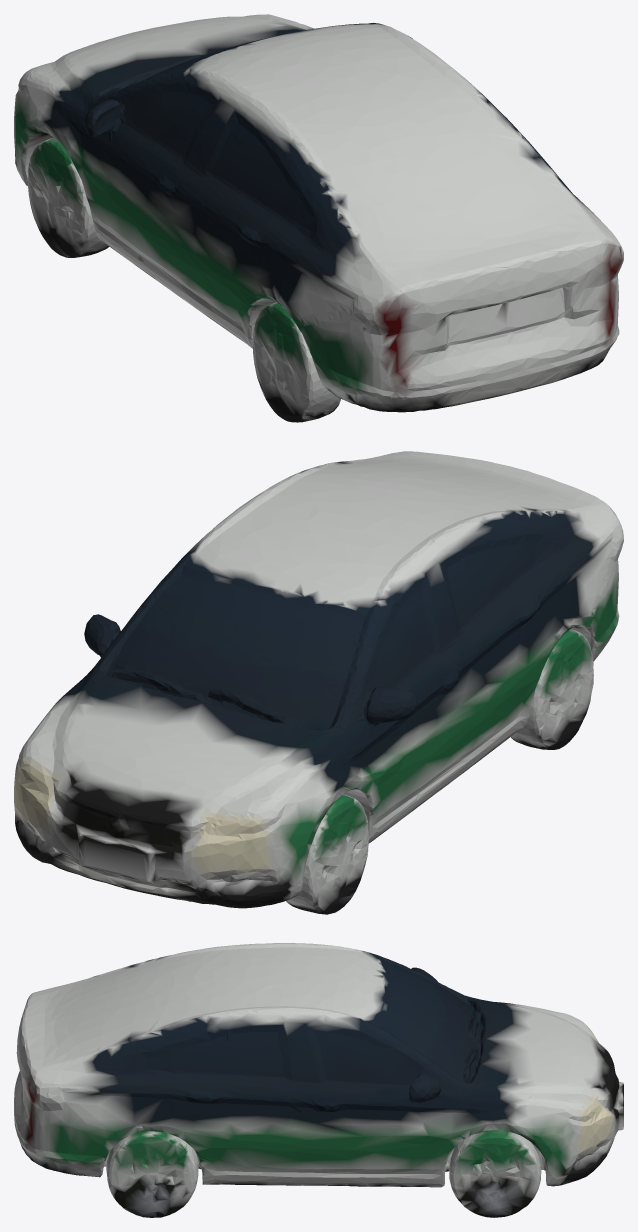
Rendered from police_lod1.glb.
The picture shows the model from 3 angles, top to bottom: view 1: azimuth 30°, elevation 25°; view 2: azimuth 150°, elevation 25°; view 3: azimuth 270°, elevation 25°; orthographic projection. The views are drawn at different scales.
Visible parts, largest first — view 1: world; view 2: world; view 3: world.
Part boxes in pixels (x1,y1,x2,y2): world: (14, 14, 623, 422); world: (14, 451, 623, 914); world: (14, 943, 623, 1217).
Bounding box in the file's own units: 98.52 × 72.44 × 208.
